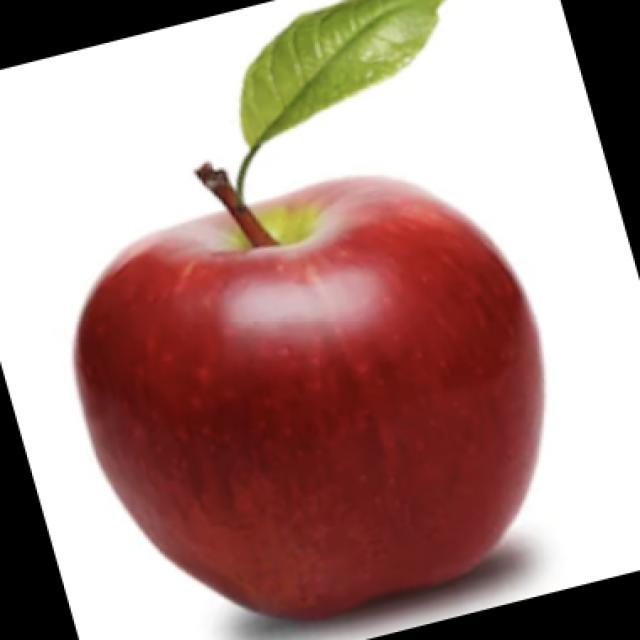Fresh Apple: (60, 182, 547, 612)
